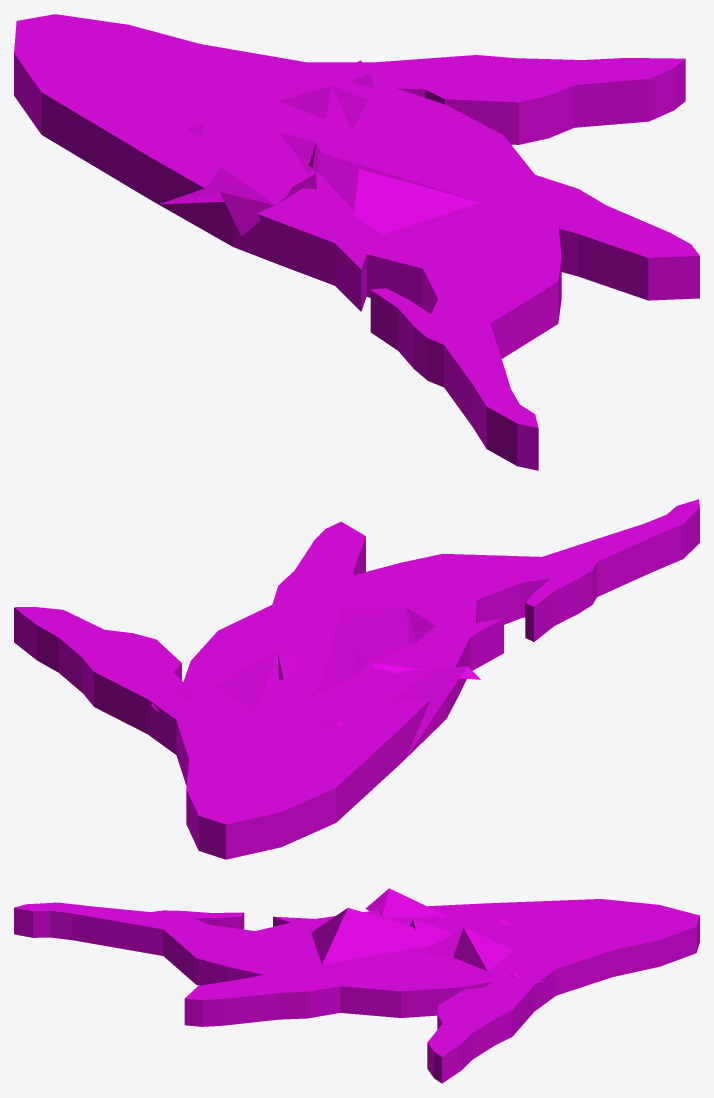
Rendered from КЫЫЫЫЫТТТТТ.fbx.
3 renders of one model, top to bottom at view 1: azimuth 30°, elevation 25°; view 2: azimuth 150°, elevation 25°; view 3: azimuth 270°, elevation 25°, orthographic. The views are drawn at different scales.
Parts seen in each view (by area): view 1: Plane; view 2: Plane; view 3: Plane.
Boxes of the visible parts, box(x1,y1,x2,y2) form: Plane: box(14, 14, 699, 470); Plane: box(14, 499, 699, 859); Plane: box(14, 888, 699, 1083).
Bounding box in the file's own units: 44.68 × 7.03 × 81.92.
